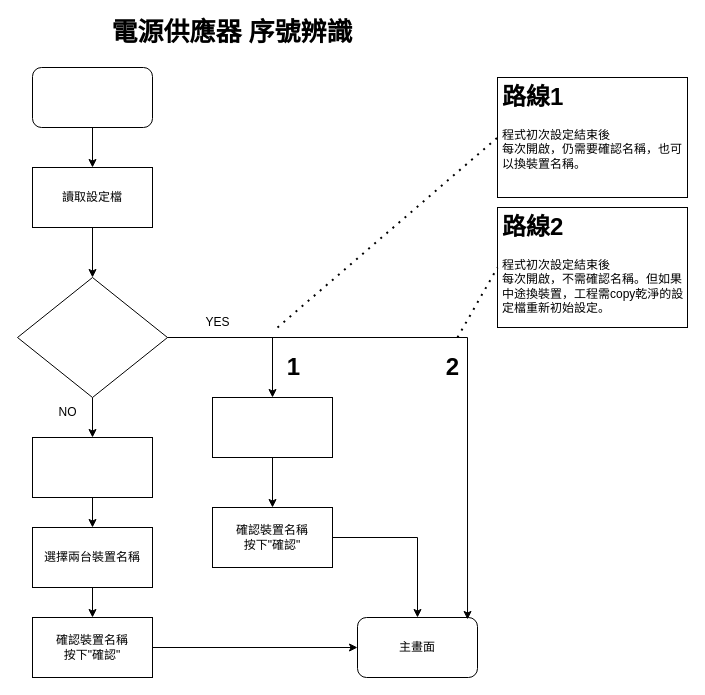
Image size: 705x695. Some labels were removed from this diagram. The shapes that lost their labels are listed below. From the top down, each one's centre as x and y in pixels, then its label:
point (92, 97): 開啟程式
point (92, 337): 檢查設定檔 是否有裝置名稱
point (272, 427): 將設定檔名稱填入 設定畫面
point (92, 467): 跳出裝置設定畫面
